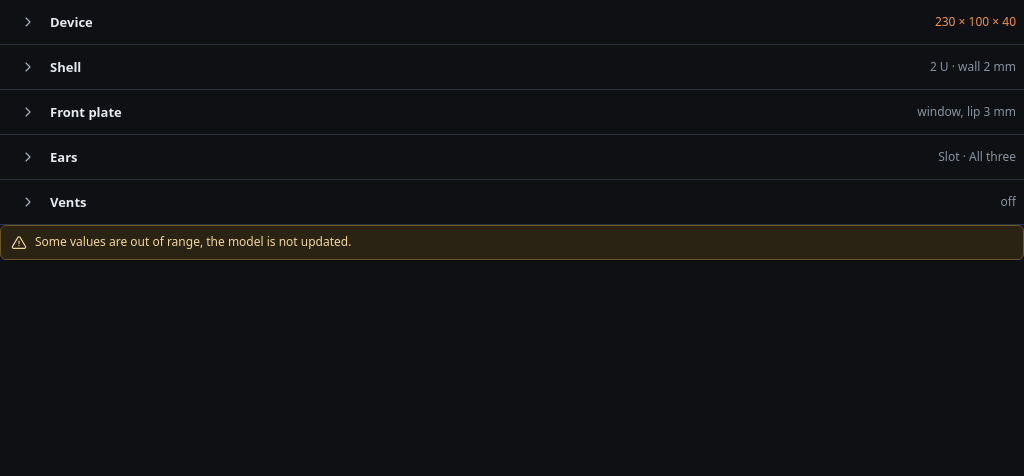
Test case: CasePanel › слишком широкое устройство показывает ошибку с превышением
Click the button named "Expand: Device (changed)" at (28, 22), box [12,6,44,38]
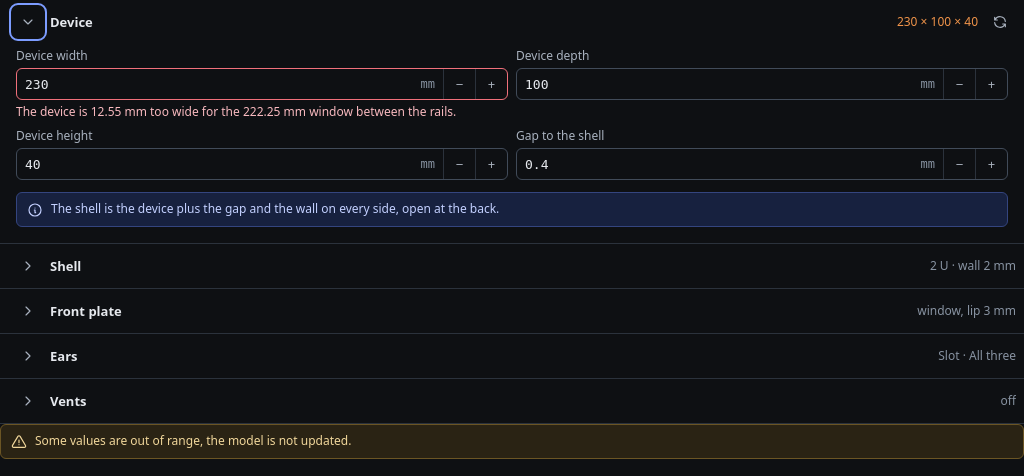
Expected: the text "Some values are out of range, the model is not updated." is shown, [35,433,351,450]
Now the text "The device is 12.55 mm too wide for the 222.25 mm window between the rails." is shown, box [16,104,508,120]
